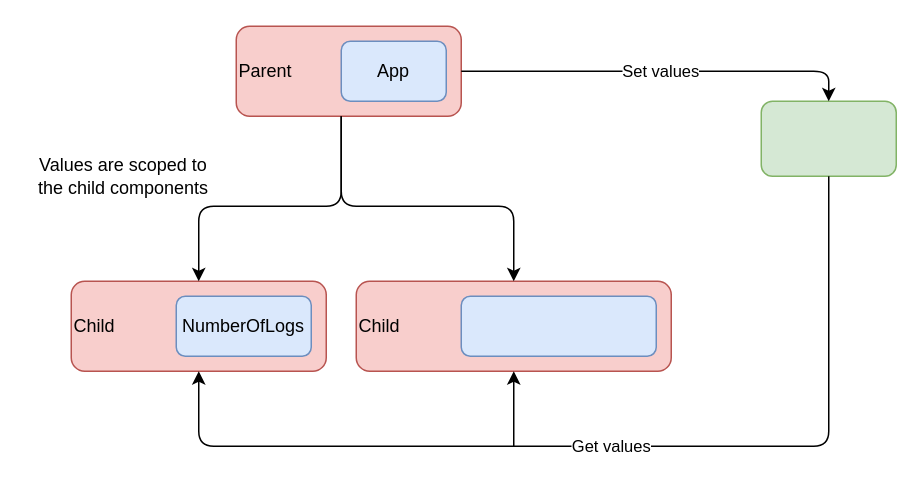
This 923x485 diagram has some shape labels left out. Here are the shapes that lost their labels. From the top down, the box of each, then its label:
(760, 100, 896, 176): Context
(460, 295, 656, 356): NumberOfLogsAndData
